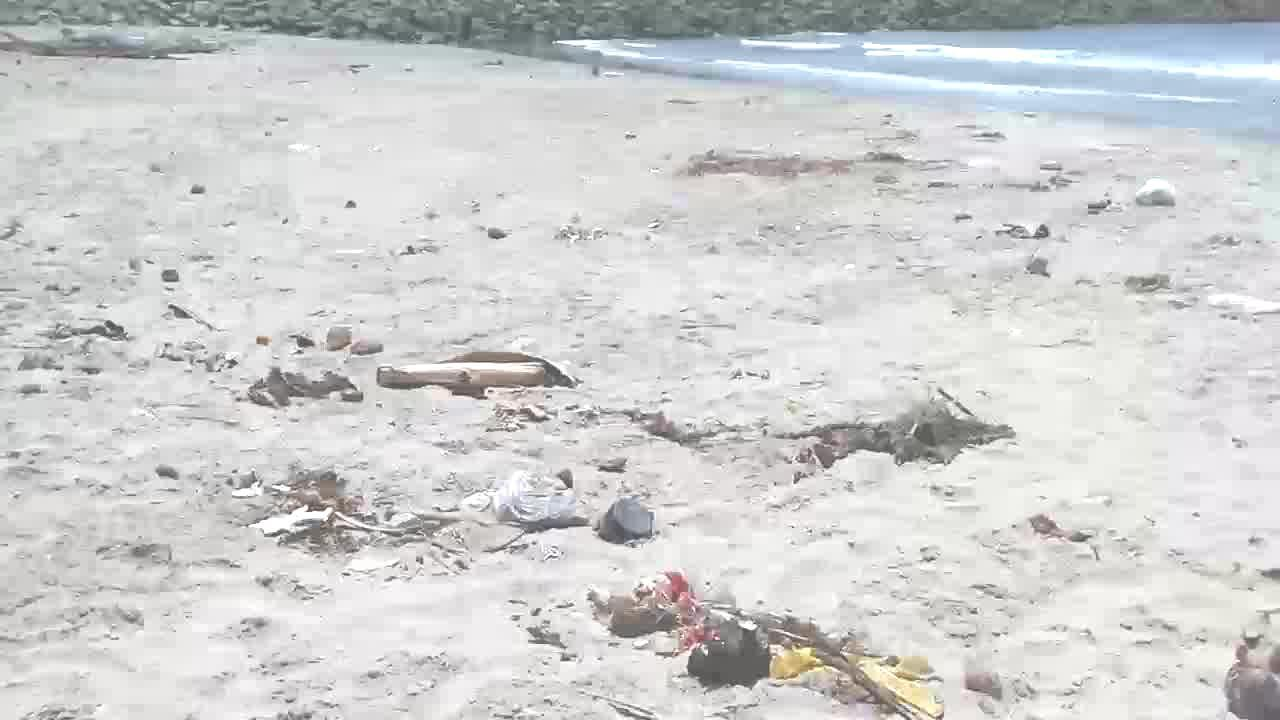obj: (583, 566, 950, 719), (763, 382, 1018, 470), (258, 454, 456, 540), (368, 340, 574, 402), (454, 463, 583, 536), (678, 617, 774, 689), (245, 507, 366, 558), (1223, 623, 1279, 718), (245, 368, 355, 412), (589, 495, 657, 544), (48, 316, 134, 344), (1206, 292, 1279, 317), (166, 300, 217, 334), (1130, 178, 1178, 204), (323, 322, 354, 350), (345, 338, 388, 358)
sand/background: (1, 0, 1279, 152)
